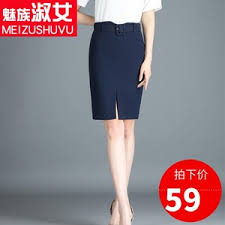F_tailored skirt: (84, 17, 150, 120)
